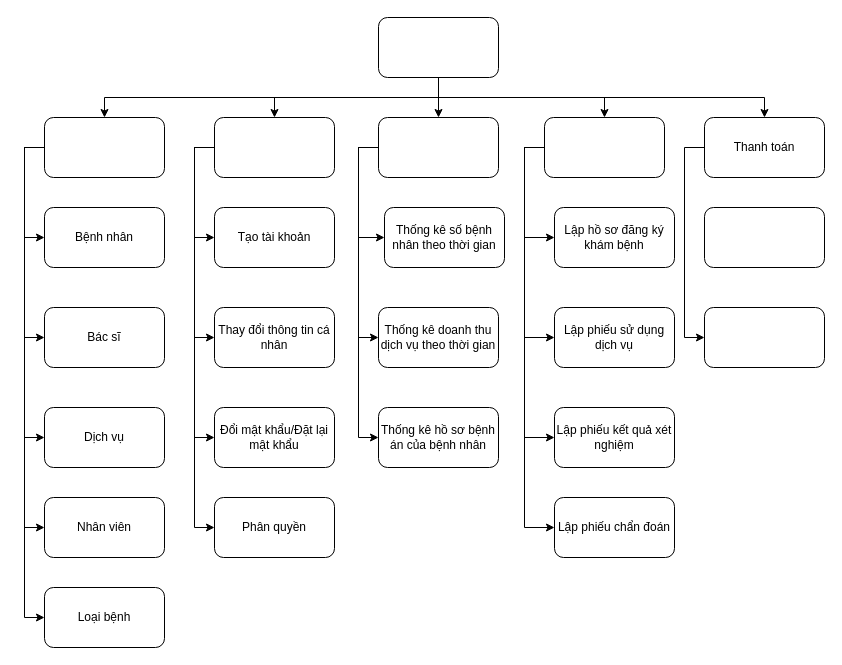
The diagram is 842 pixels wide and 665 high, and some of its shapes have lost their labels. Here are the shapes that lost their labels. From the top down, the box of each, then its label:
(378, 16, 498, 78): QUẢN LÝ PHÒNG KHÁM
(44, 116, 164, 178): Quản lý danh mục
(214, 116, 334, 178): Quản trị hệ thống
(378, 116, 498, 178): Báo cáo thống kê
(544, 116, 664, 178): Khám chữa bệnh
(704, 206, 824, 268): Lập phiếu thu tiền tạm ứng
(704, 306, 824, 368): Lập bản kê chi tiết và thanh toán
